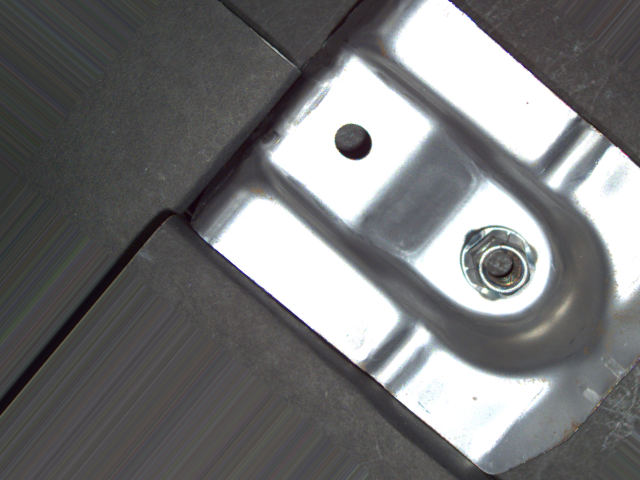good: (457, 220, 542, 304)
